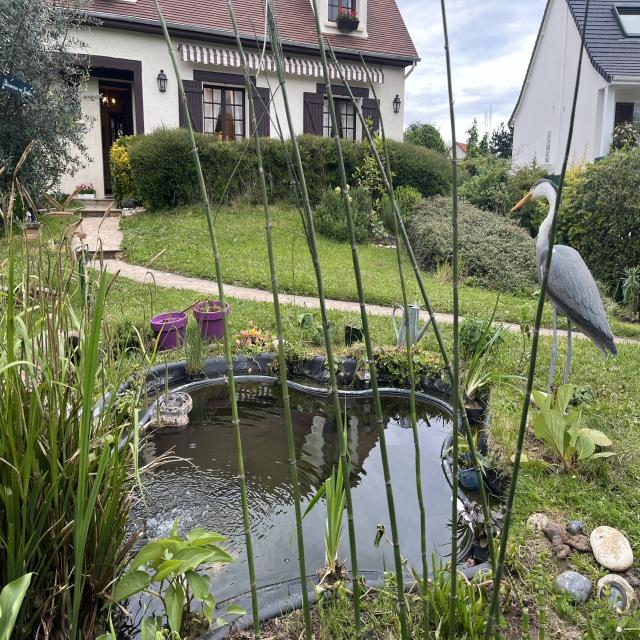Heron: (505, 172, 624, 422)
